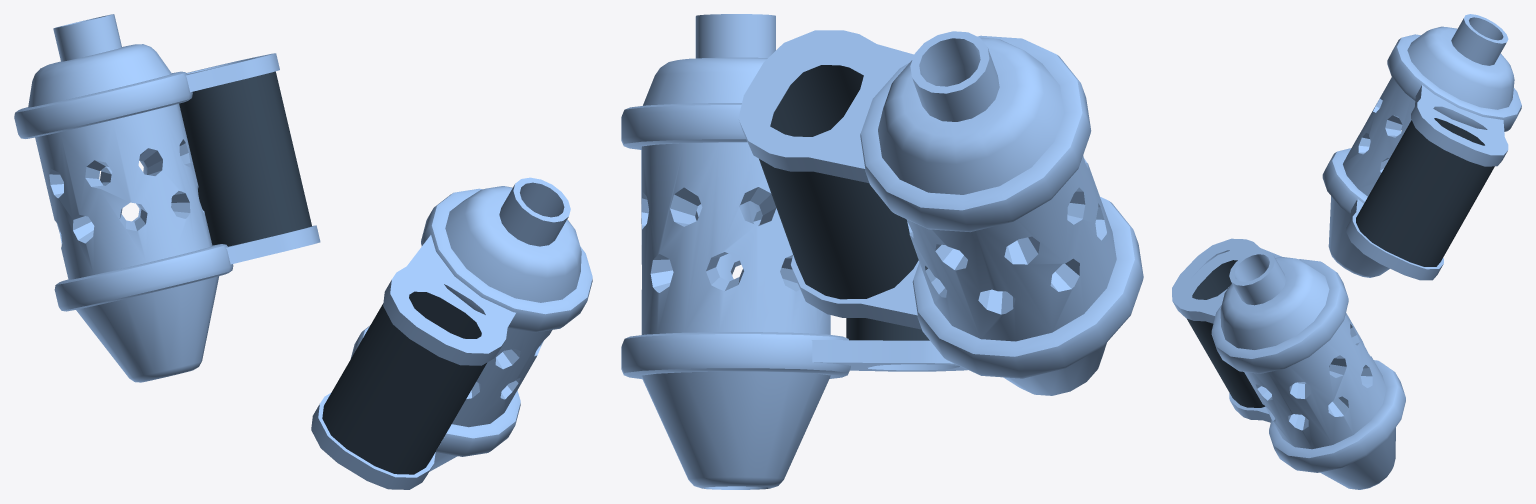
Rendered from JetsUpgrade_01_mesh.fbx.
The picture shows the model from 3 angles, left to right: view 1: azimuth 30°, elevation 25°; view 2: azimuth 150°, elevation 25°; view 3: azimuth 270°, elevation 25°; orthographic projection. The views are drawn at different scales.
Visible parts, largest first — view 1: Fire Burst.001; view 2: Fire Burst.001; view 3: Fire Burst.001.
Part boxes in pixels (x1,y1,x2,y2): Fire Burst.001: (14, 14, 592, 489); Fire Burst.001: (621, 14, 1143, 489); Fire Burst.001: (1172, 14, 1521, 489).
Size of the model in its own units: 33.69 by 33.32 by 28.46.
